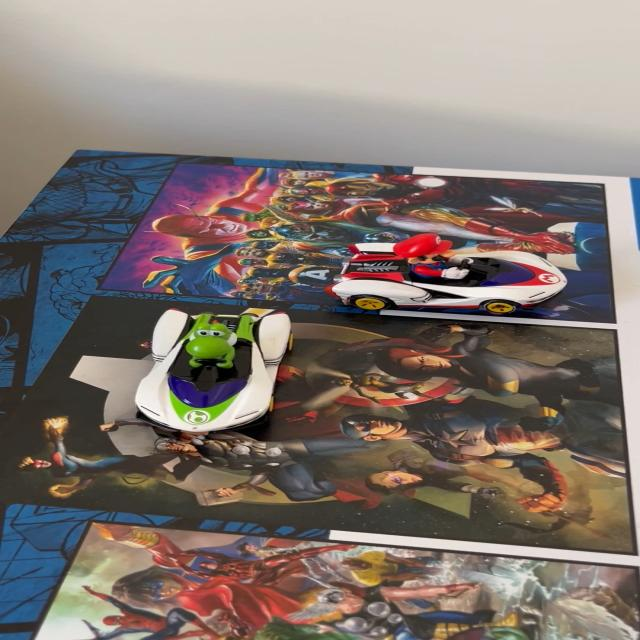mario: (322, 232, 578, 319)
yoshi: (122, 298, 301, 439)
